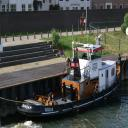tugboat: (18, 34, 125, 125)
